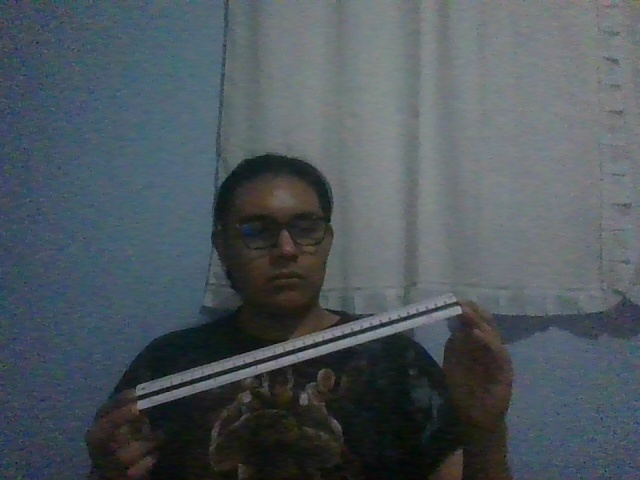regla: (132, 294, 463, 410)
